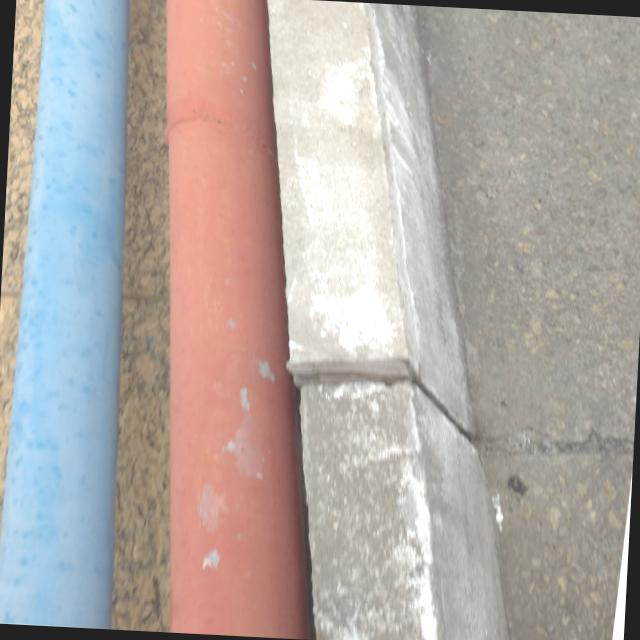gas: (120, 0, 329, 639), (0, 0, 142, 629)
